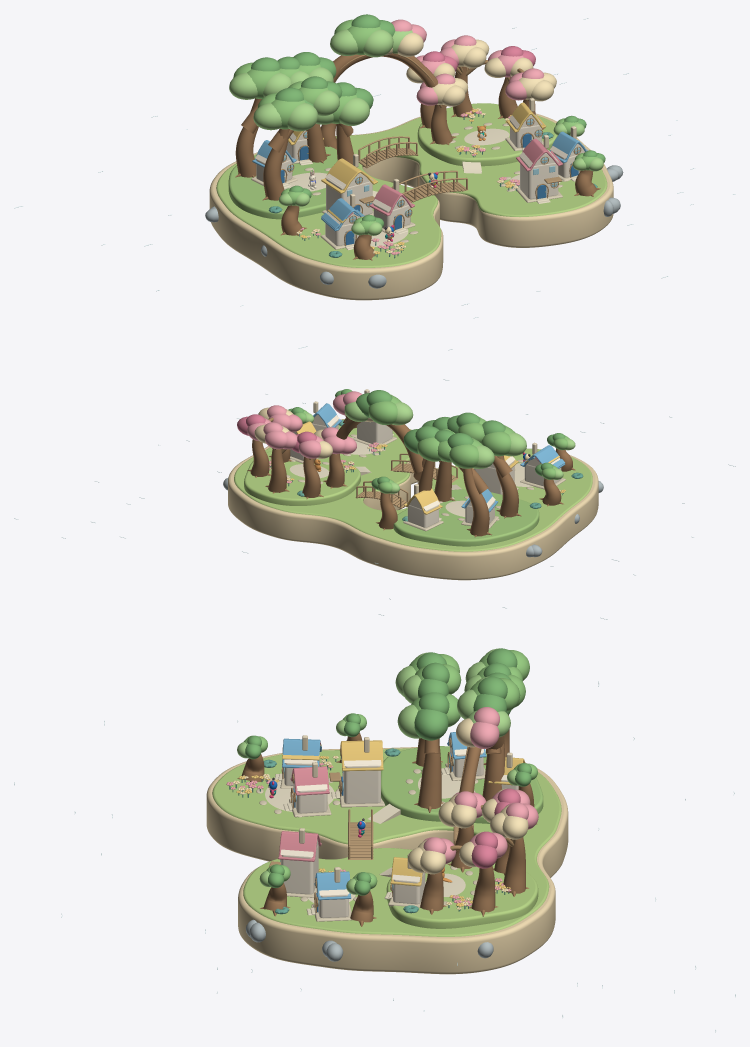
File: whole-island.glb
The picture shows the model from 3 angles, top to bottom: view 1: azimuth 30°, elevation 25°; view 2: azimuth 150°, elevation 25°; view 3: azimuth 270°, elevation 25°; orthographic projection. The views are drawn at different scales.
Parts seen in each view (by area): view 1: Island / continuous organic earthen coast, Island / soft grassy cap, Garden / rounded flower terrace, Grove / rounded living terrace, Grove tree 1 / planted trunk, Water town / coral home / rounded walls, Whole island / grown living arch, Grove tree 2 / planted trunk, Village / matured common house / rounded walls, Grove tree 4 / sculpted leaf mass.004, Grove tree 1 / sculpted leaf mass.004, Flower tree 1 / planted trunk (+6 smaller); view 2: Island / continuous organic earthen coast, Island / soft grassy cap, Grove / rounded living terrace, Garden / rounded flower terrace, Grove tree 2 / planted trunk, Grove tree 1 / planted trunk, Whole island / grown living arch, Water town / coral home / rounded walls, Flower tree 3 / planted trunk, Grove tree 2 / sculpted leaf mass.003, Grove tree 4 / planted trunk, Whole island / shared grown canopy / sculpted leaf mass.003 (+8 smaller); view 3: Island / continuous organic earthen coast, Island / soft grassy cap, Garden / rounded flower terrace, Grove / rounded living terrace, Village / matured common house / rounded walls, Water town / coral home / rounded walls, Grove tree 4 / planted trunk, Flower tree 3 / planted trunk, Village / matured common house / curled roof.001, Grove tree 4 / sculpted leaf mass.002, Flower tree 4 / planted trunk, Grove tree 3 / planted trunk (+10 smaller).
Part boxes in pixels (x1,y1,x2,y2): Island / continuous organic earthen coast: (209, 113, 613, 300); Island / soft grassy cap: (216, 115, 607, 267); Garden / rounded flower terrace: (417, 103, 557, 166); Grove / rounded living terrace: (228, 146, 337, 219); Grove tree 1 / planted trunk: (263, 129, 289, 200); Water town / coral home / rounded walls: (520, 157, 558, 199); Whole island / grown living arch: (333, 53, 437, 87); Grove tree 2 / planted trunk: (235, 98, 261, 177); Village / matured common house / rounded walls: (326, 177, 372, 215); Grove tree 4 / sculpted leaf mass.004: (339, 97, 369, 125); Grove tree 1 / sculpted leaf mass.004: (287, 103, 317, 131); Flower tree 1 / planted trunk: (430, 104, 452, 144); Island / continuous organic earthen coast: (228, 419, 598, 580); Island / soft grassy cap: (234, 419, 592, 551); Grove / rounded living terrace: (393, 489, 539, 546); Garden / rounded flower terrace: (244, 451, 360, 505); Grove tree 2 / planted trunk: (463, 468, 489, 536); Grove tree 1 / planted trunk: (495, 455, 518, 517); Whole island / grown living arch: (336, 418, 423, 473); Water town / coral home / rounded walls: (357, 421, 392, 445); Flower tree 3 / planted trunk: (268, 448, 286, 492); Grove tree 2 / sculpted leaf mass.003: (449, 444, 478, 468); Grove tree 4 / planted trunk: (434, 461, 451, 501); Whole island / shared grown canopy / sculpted leaf mass.003: (368, 401, 397, 425); Island / continuous organic earthen coast: (206, 747, 568, 974); Island / soft grassy cap: (212, 748, 561, 936); Garden / rounded flower terrace: (386, 861, 538, 928); Grove / rounded living terrace: (381, 746, 543, 823); Village / matured common house / rounded walls: (342, 763, 380, 803); Water town / coral home / rounded walls: (281, 844, 318, 894); Grove tree 4 / planted trunk: (418, 741, 441, 808); Flower tree 3 / planted trunk: (503, 837, 525, 893); Village / matured common house / curled roof.001: (341, 742, 383, 771); Grove tree 4 / sculpted leaf mass.002: (414, 709, 448, 740); Flower tree 4 / planted trunk: (471, 866, 495, 912); Grove tree 3 / planted trunk: (482, 742, 505, 801).
Size of what is drawn, in the model's own units: 40.28 by 10.47 by 35.04.
40 materials, 1 textured.
